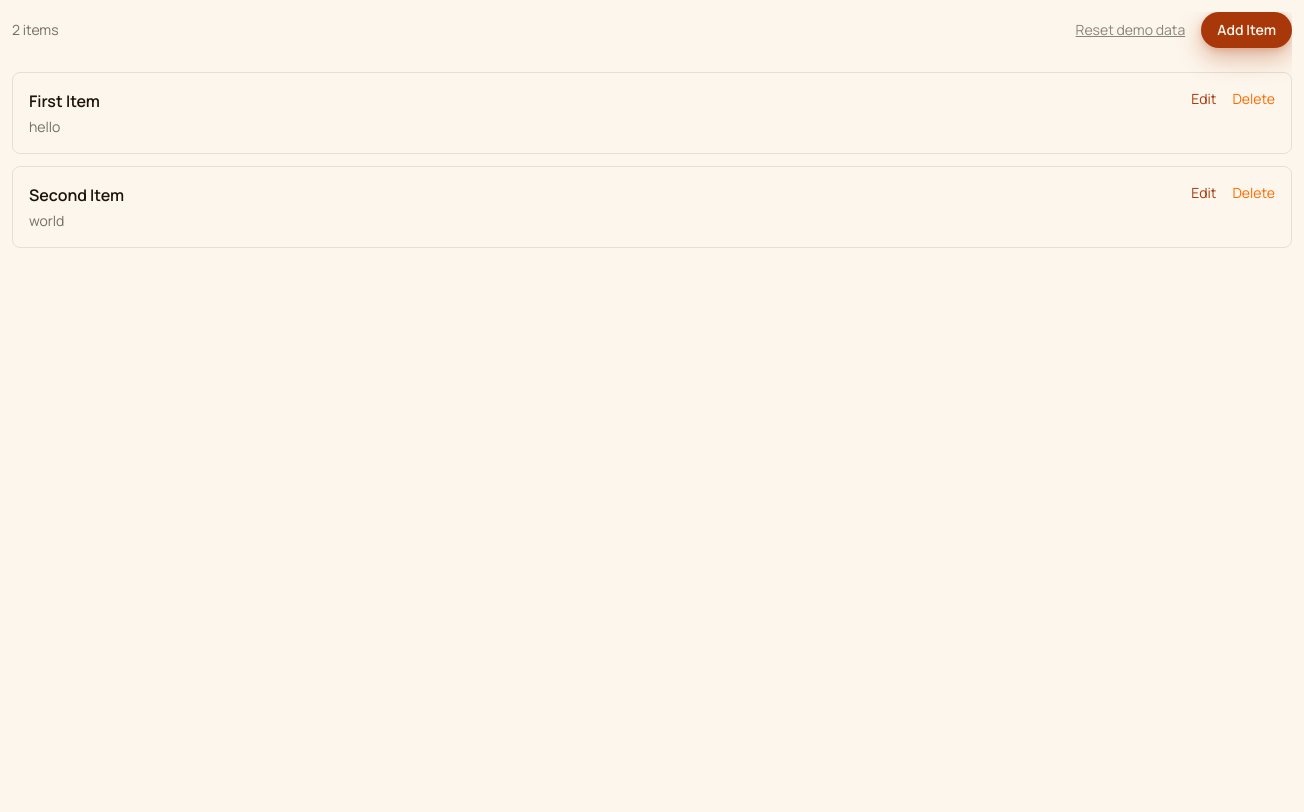
ResourceManager › edits an existing item
This screenshot has width=1304, height=812.
Click the button "Edit" in the row of "First Item" at coordinates (1204, 99), box top-left (1191, 89), bottom-right (1216, 109)
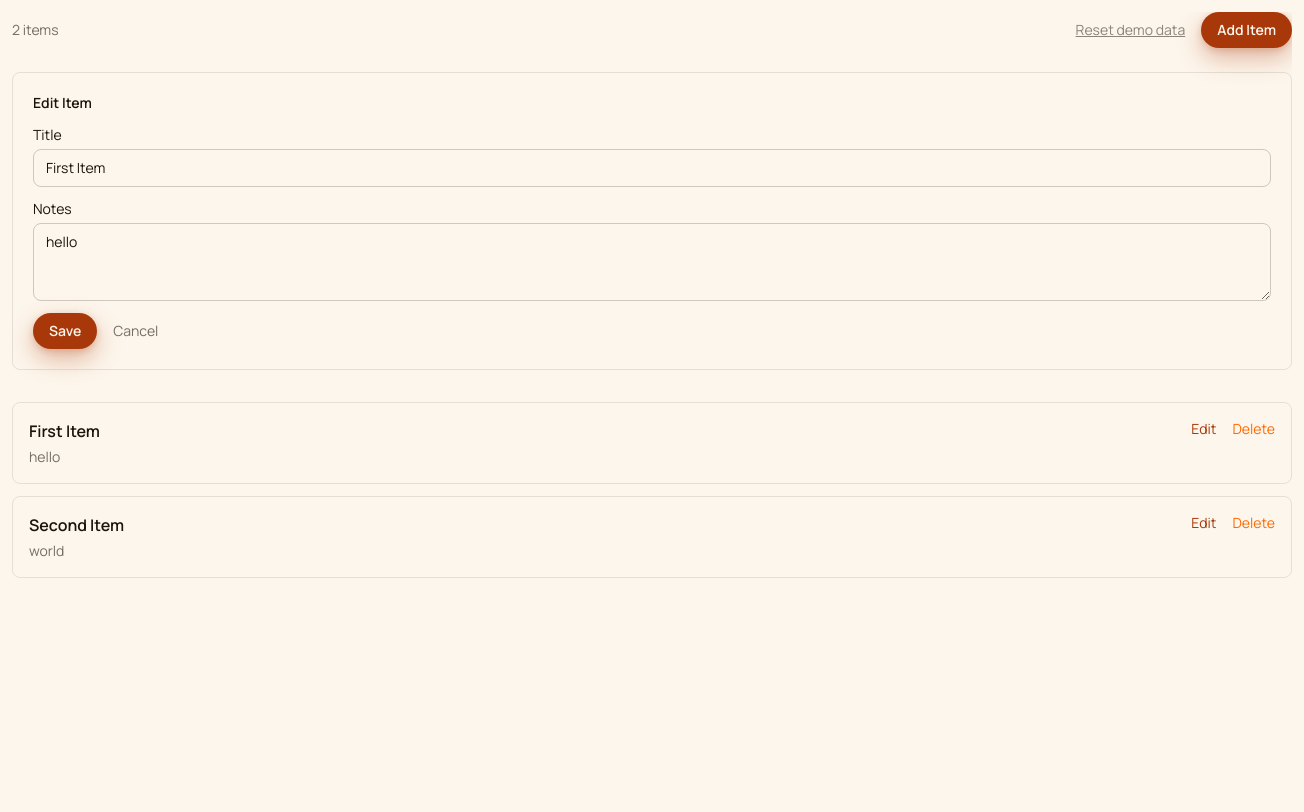
Replace the text in the field labelled "Title" with "First Item (edited)" at coordinates (652, 168), box top-left (33, 149), bottom-right (1271, 187)
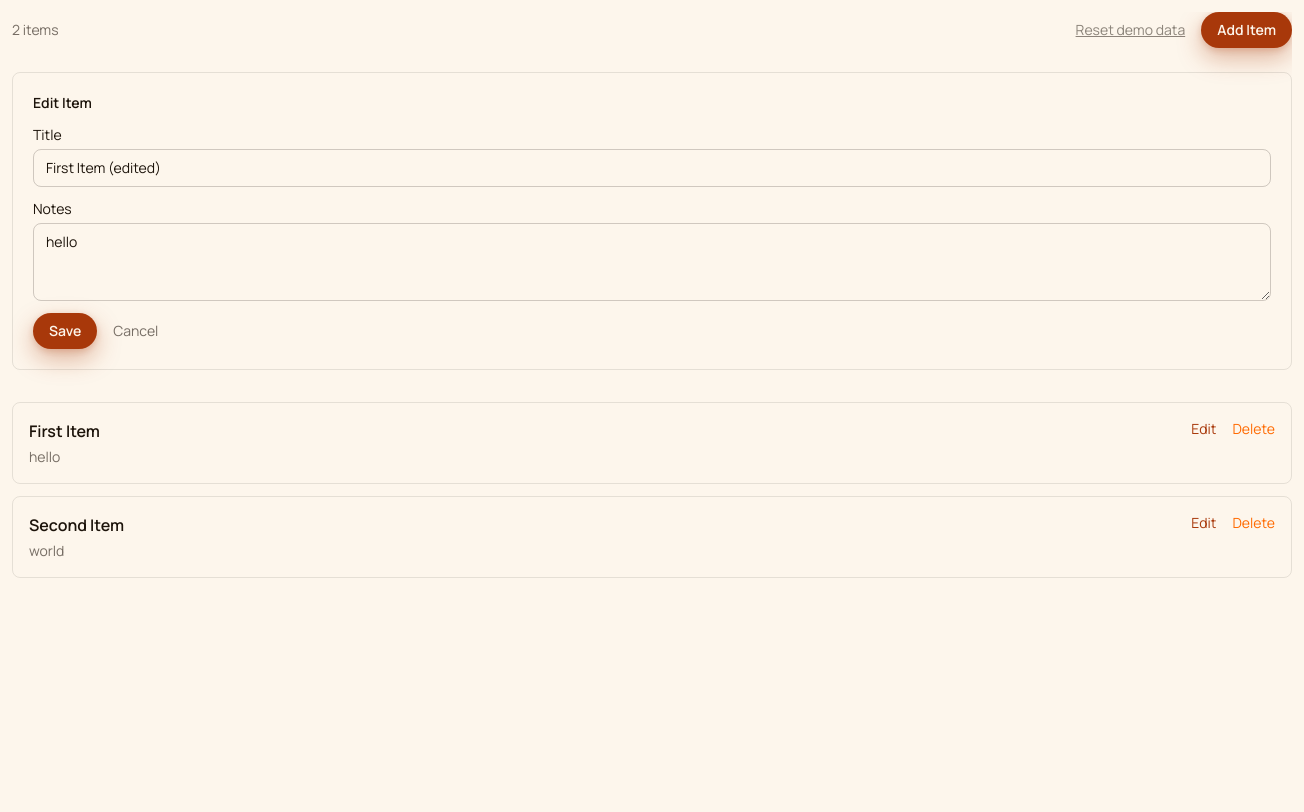
Click the button "Save" at coordinates (65, 331), box top-left (33, 313), bottom-right (97, 349)
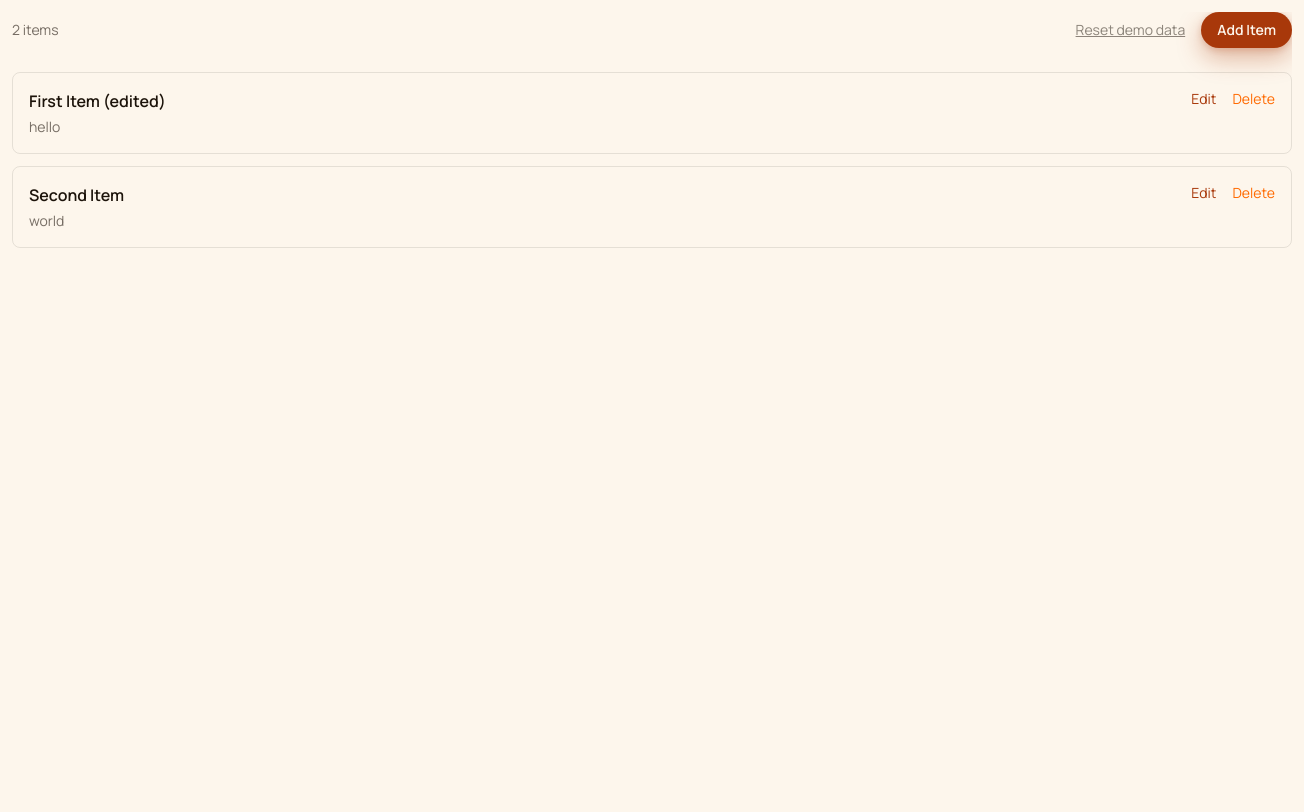
Result: the text "First Item (edited)" is shown at top-left (29, 89), bottom-right (166, 113)
